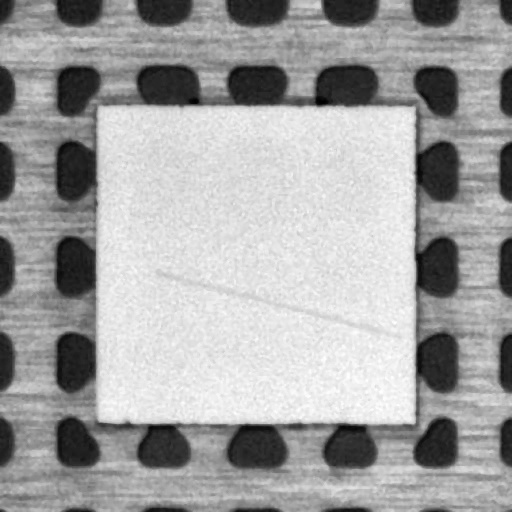DIE_CRACK: (156, 272, 398, 336)
